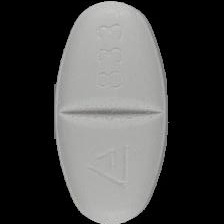62037-833: (0, 0, 224, 224)
